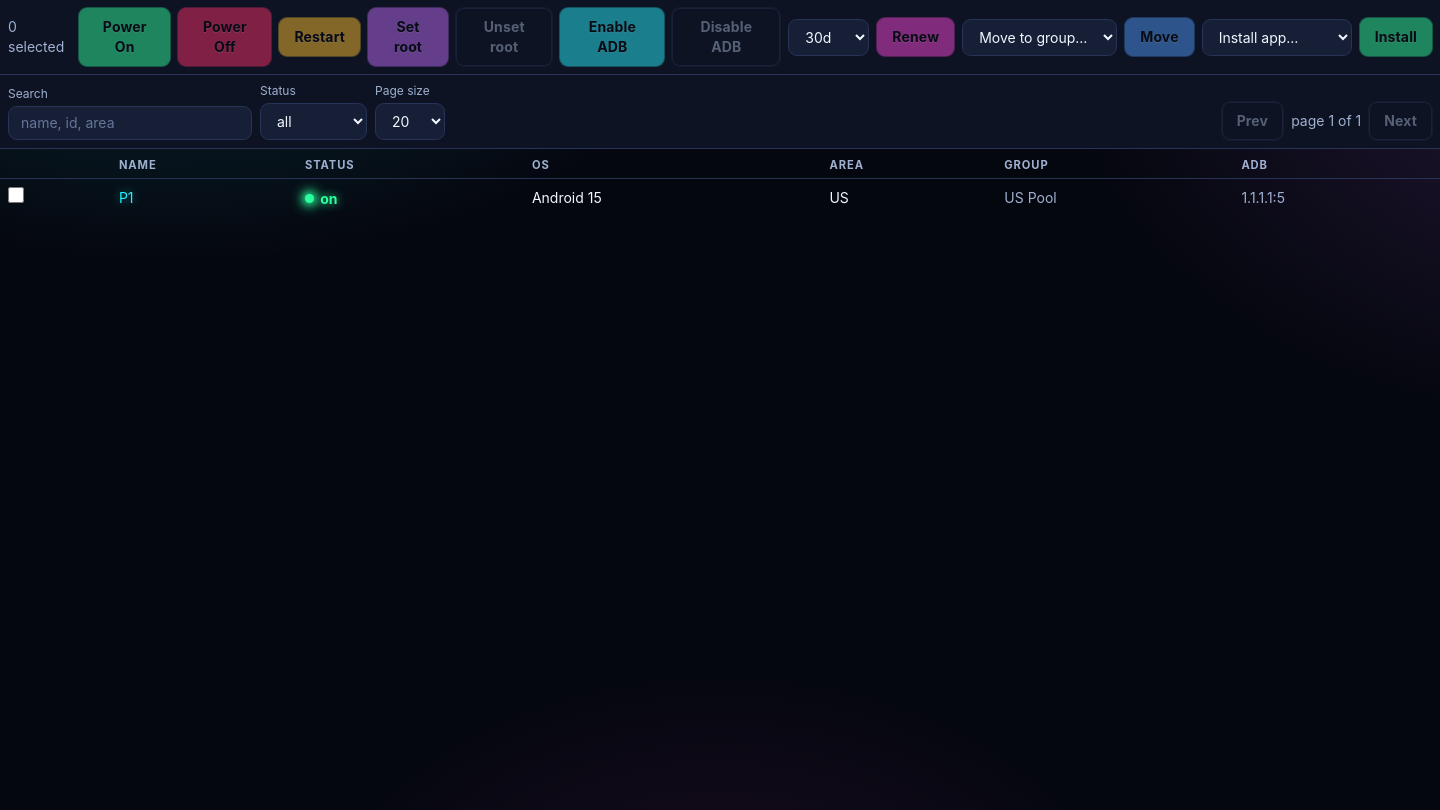
FleetPage › enables batch bar after selecting a phone
Expected: the button "P1" is shown, [119,187,134,208]
What coordinates should you click on to do the following:
click the checkbox named "select cp-1"
I would click on:
 (16, 195)
Its box is [8,187,24,203].
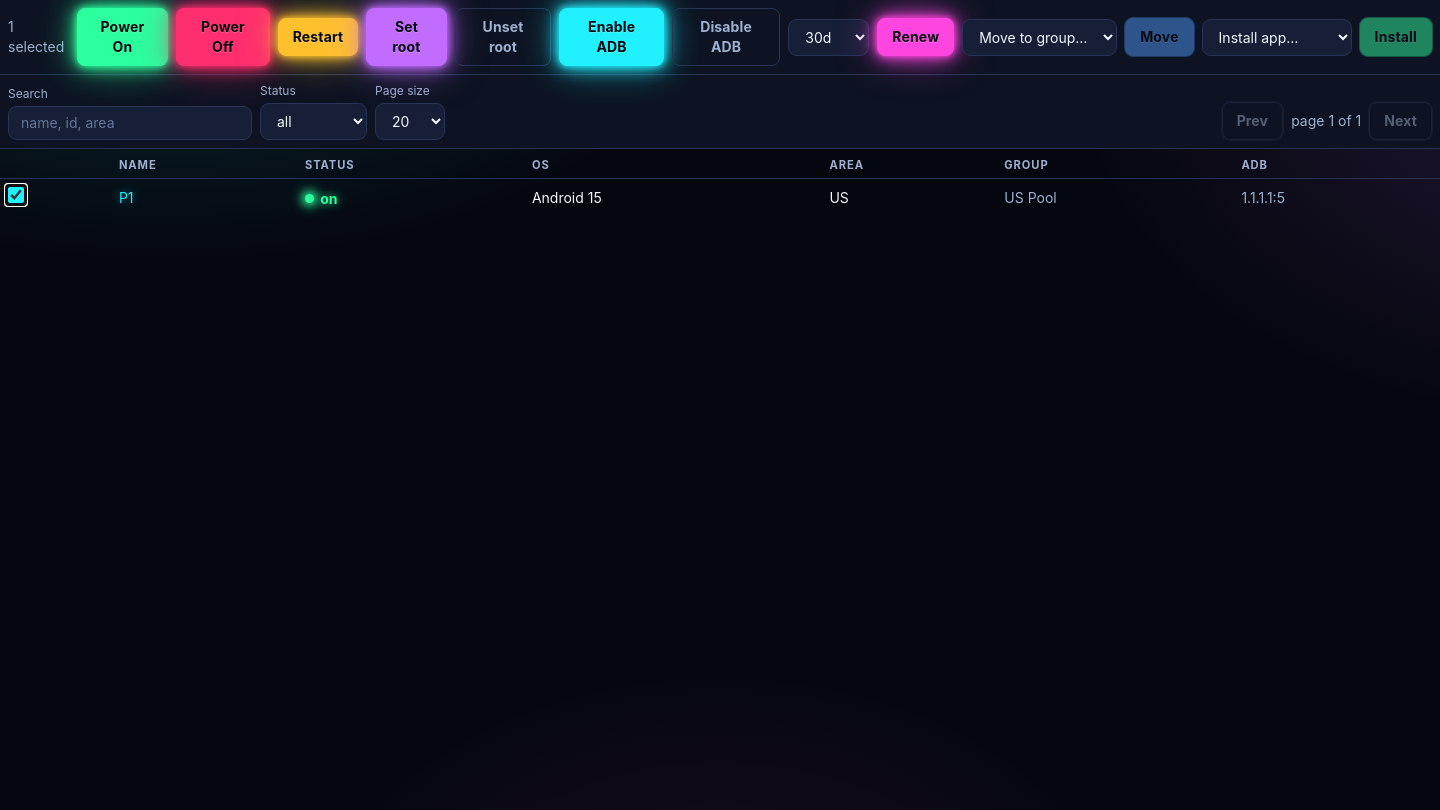
Expected: the button "Power On" is enabled, [77,8,168,66]
